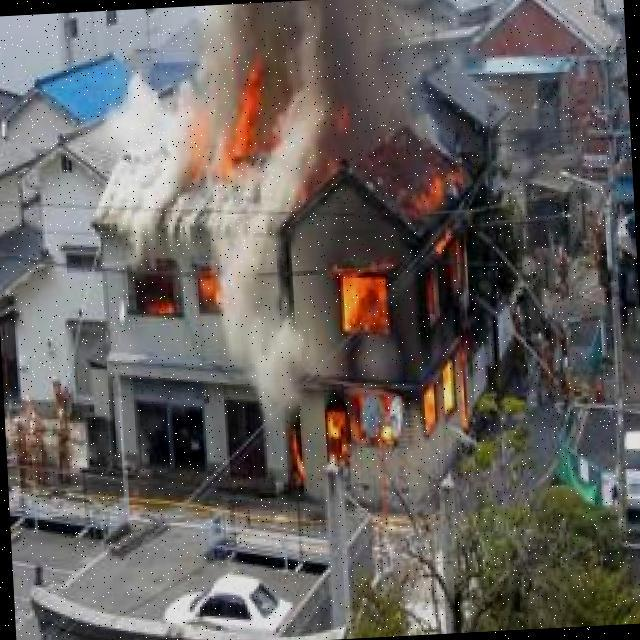Fire: (308, 150, 483, 477), (181, 67, 270, 185), (136, 280, 222, 323)
